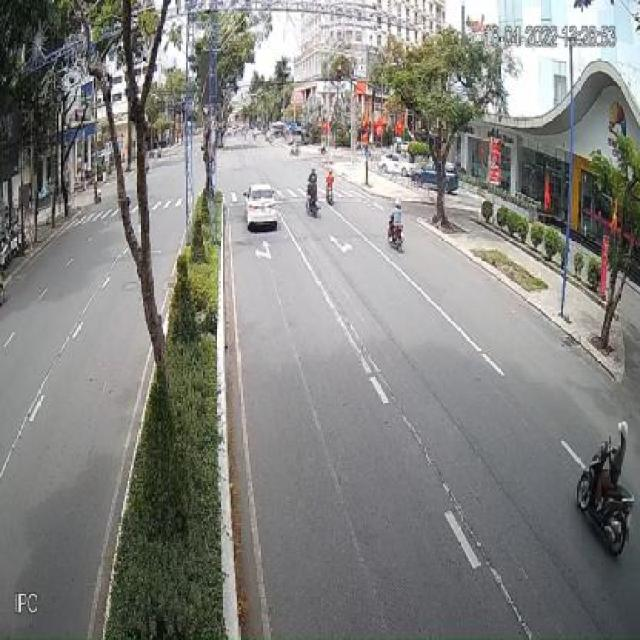car: (247, 185, 282, 234)
motorbike: (576, 419, 634, 557), (386, 201, 405, 254), (307, 171, 320, 219), (327, 173, 337, 209), (324, 170, 334, 205)
